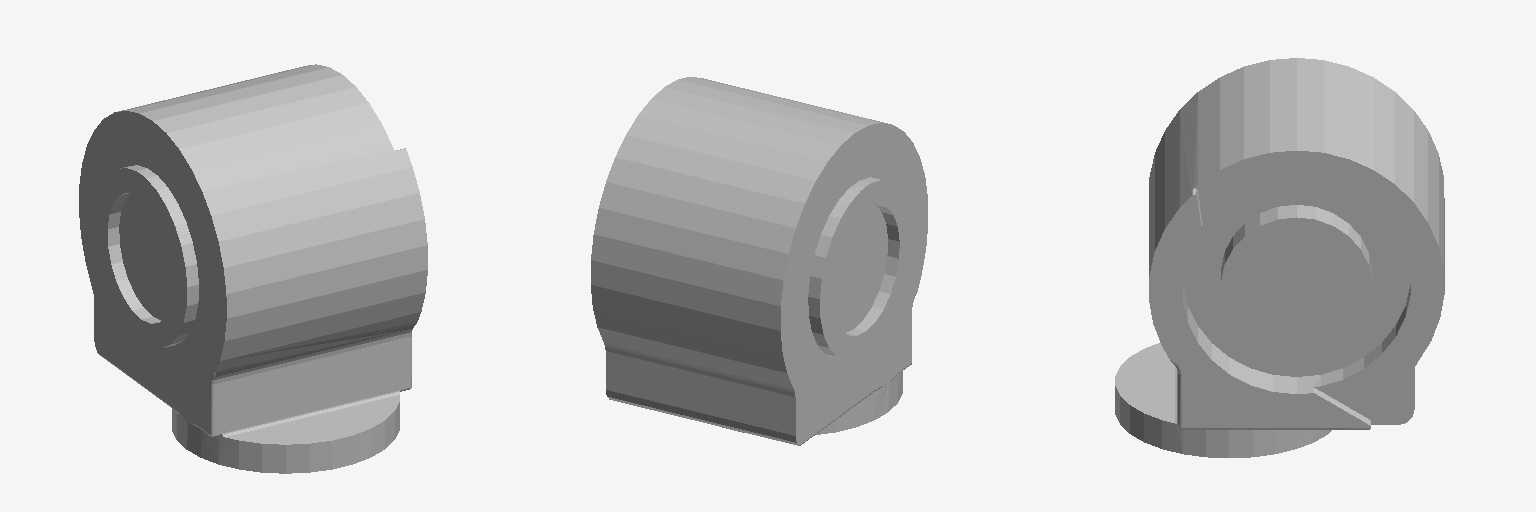
File: Hip_pitch_left.obj
The picture shows the model from 3 angles: view 1: azimuth 30°, elevation 25°; view 2: azimuth 150°, elevation 25°; view 3: azimuth 270°, elevation 25°; orthographic projection.
Parts seen in each view (by area): view 1: Hip_Pitch_Left; view 2: Hip_Pitch_Left; view 3: Hip_Pitch_Left.
Boxes of the visible parts, <box> form: Hip_Pitch_Left: <box>79,64,427,473</box>; Hip_Pitch_Left: <box>591,77,927,445</box>; Hip_Pitch_Left: <box>1115,58,1444,457</box>.
Bounding box in the file's own units: 0.073 × 0.0995 × 0.0977.